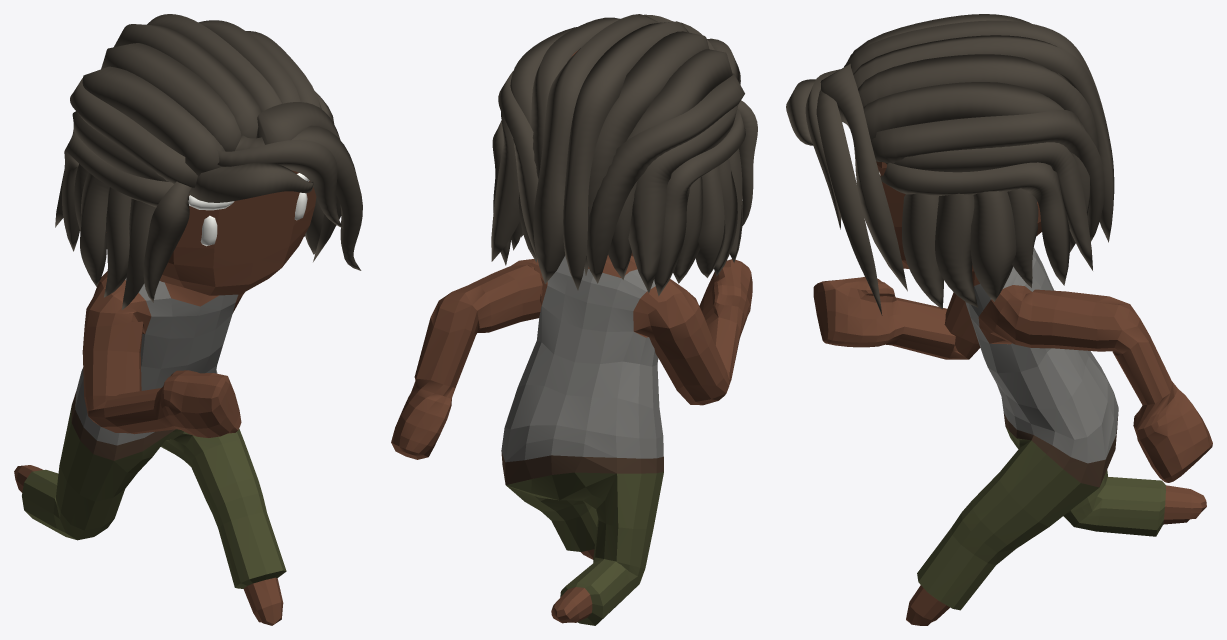
Rendered from course-femme.glb.
The picture shows the model from 3 angles, left to right: view 1: azimuth 30°, elevation 25°; view 2: azimuth 150°, elevation 25°; view 3: azimuth 270°, elevation 25°; orthographic projection. The views are drawn at different scales.
Parts seen in each view (by area): view 1: Cube004_5, Cube004, Cube004_2, Cube004_1, Cube004_3, Cube004_4; view 2: Cube004_5, Cube004, Cube004_1, Cube004_2, Cube004_3; view 3: Cube004_5, Cube004, Cube004_2, Cube004_1, Cube004_3.
Part boxes in pixels (x1=…): Cube004_5: x1=55, y1=14, x2=362, y2=309; Cube004: x1=14, y1=170, x2=316, y2=625; Cube004_2: x1=22, y1=405, x2=286, y2=588; Cube004_1: x1=75, y1=278, x2=238, y2=445; Cube004_3: x1=71, y1=391, x2=175, y2=460; Cube004_4: x1=188, y1=173, x2=309, y2=246; Cube004_5: x1=491, y1=14, x2=757, y2=296; Cube004: x1=391, y1=50, x2=752, y2=623; Cube004_1: x1=501, y1=255, x2=663, y2=462; Cube004_2: x1=506, y1=472, x2=663, y2=625; Cube004_3: x1=501, y1=451, x2=663, y2=484; Cube004_5: x1=786, y1=14, x2=1114, y2=315; Cube004: x1=813, y1=161, x2=1212, y2=625; Cube004_2: x1=917, y1=426, x2=1165, y2=610; Cube004_1: x1=965, y1=247, x2=1118, y2=463; Cube004_3: x1=1003, y1=411, x2=1118, y2=487.
Bounding box in the file's own units: 0.6628 × 1.5 × 1.01.
